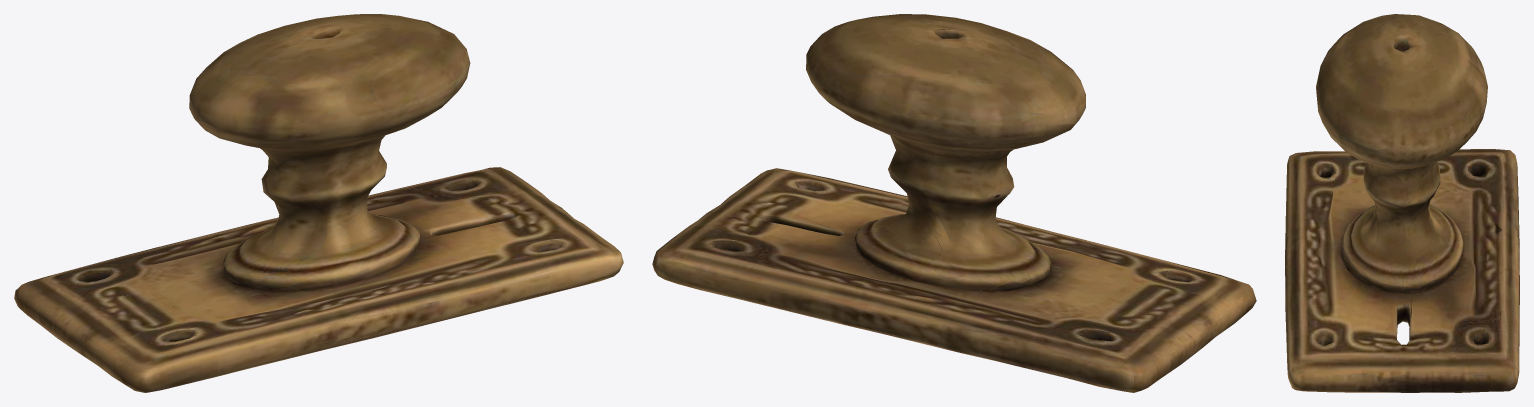
Rendered from picaporte.glb.
3 views of the same model, side by side, from view 1: azimuth 30°, elevation 25°; view 2: azimuth 150°, elevation 25°; view 3: azimuth 270°, elevation 25° (orthographic). The views are drawn at different scales.
Parts seen in each view (by area): view 1: geometry_0; view 2: geometry_0; view 3: geometry_0.
Boxes of the visible parts, bbox=[...] form: geometry_0: bbox=[14, 14, 623, 392]; geometry_0: bbox=[652, 14, 1256, 392]; geometry_0: bbox=[1285, 14, 1519, 392].
Bounding box in the file's own units: 0.16 × 0.08 × 0.07.
Materials: 1 (1 with a texture image).
